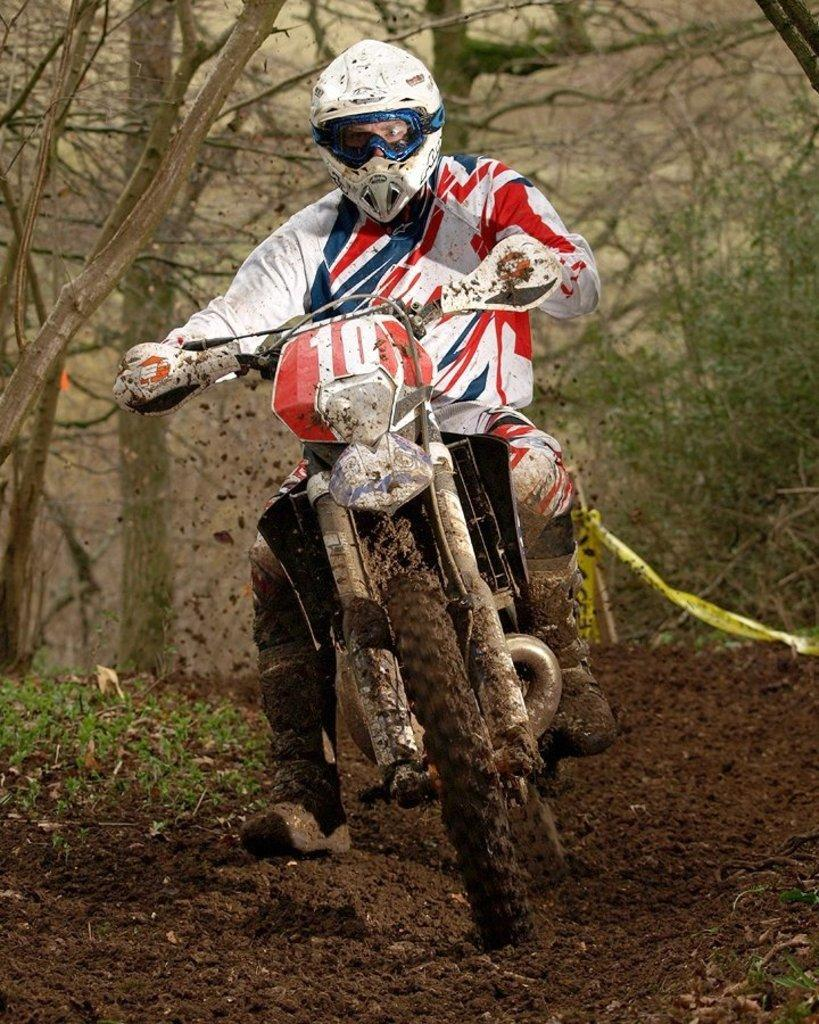helmet: (308, 35, 448, 227)
